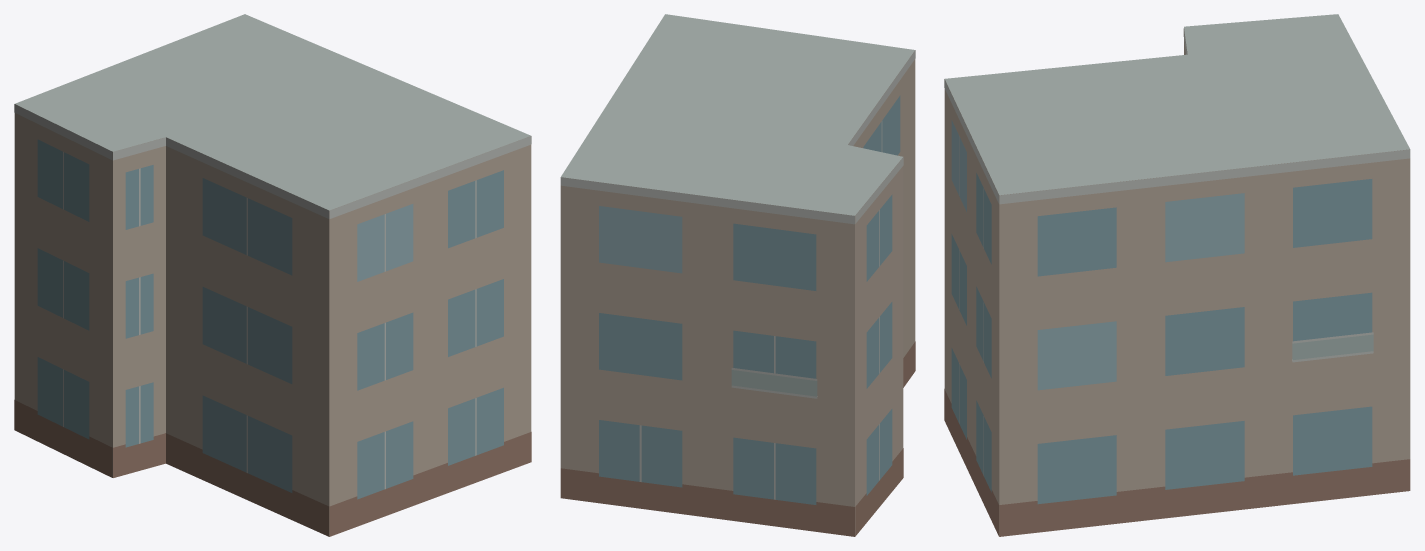
The model's file is survey-upis-32814394.glb.
3 views of the same model, side by side, from view 1: azimuth 30°, elevation 25°; view 2: azimuth 150°, elevation 25°; view 3: azimuth 270°, elevation 25° (orthographic). The views are drawn at different scales.
Parts seen in each view (by area): view 1: survey-upis-32814394.tmp; view 2: survey-upis-32814394.tmp; view 3: survey-upis-32814394.tmp.
Boxes of the visible parts, x1,y1,x2,y2 form: survey-upis-32814394.tmp: (14,14,531,536); survey-upis-32814394.tmp: (560,14,915,536); survey-upis-32814394.tmp: (944,14,1410,536).
Size of the model in its own units: 10.43 by 9.15 by 11.32.
